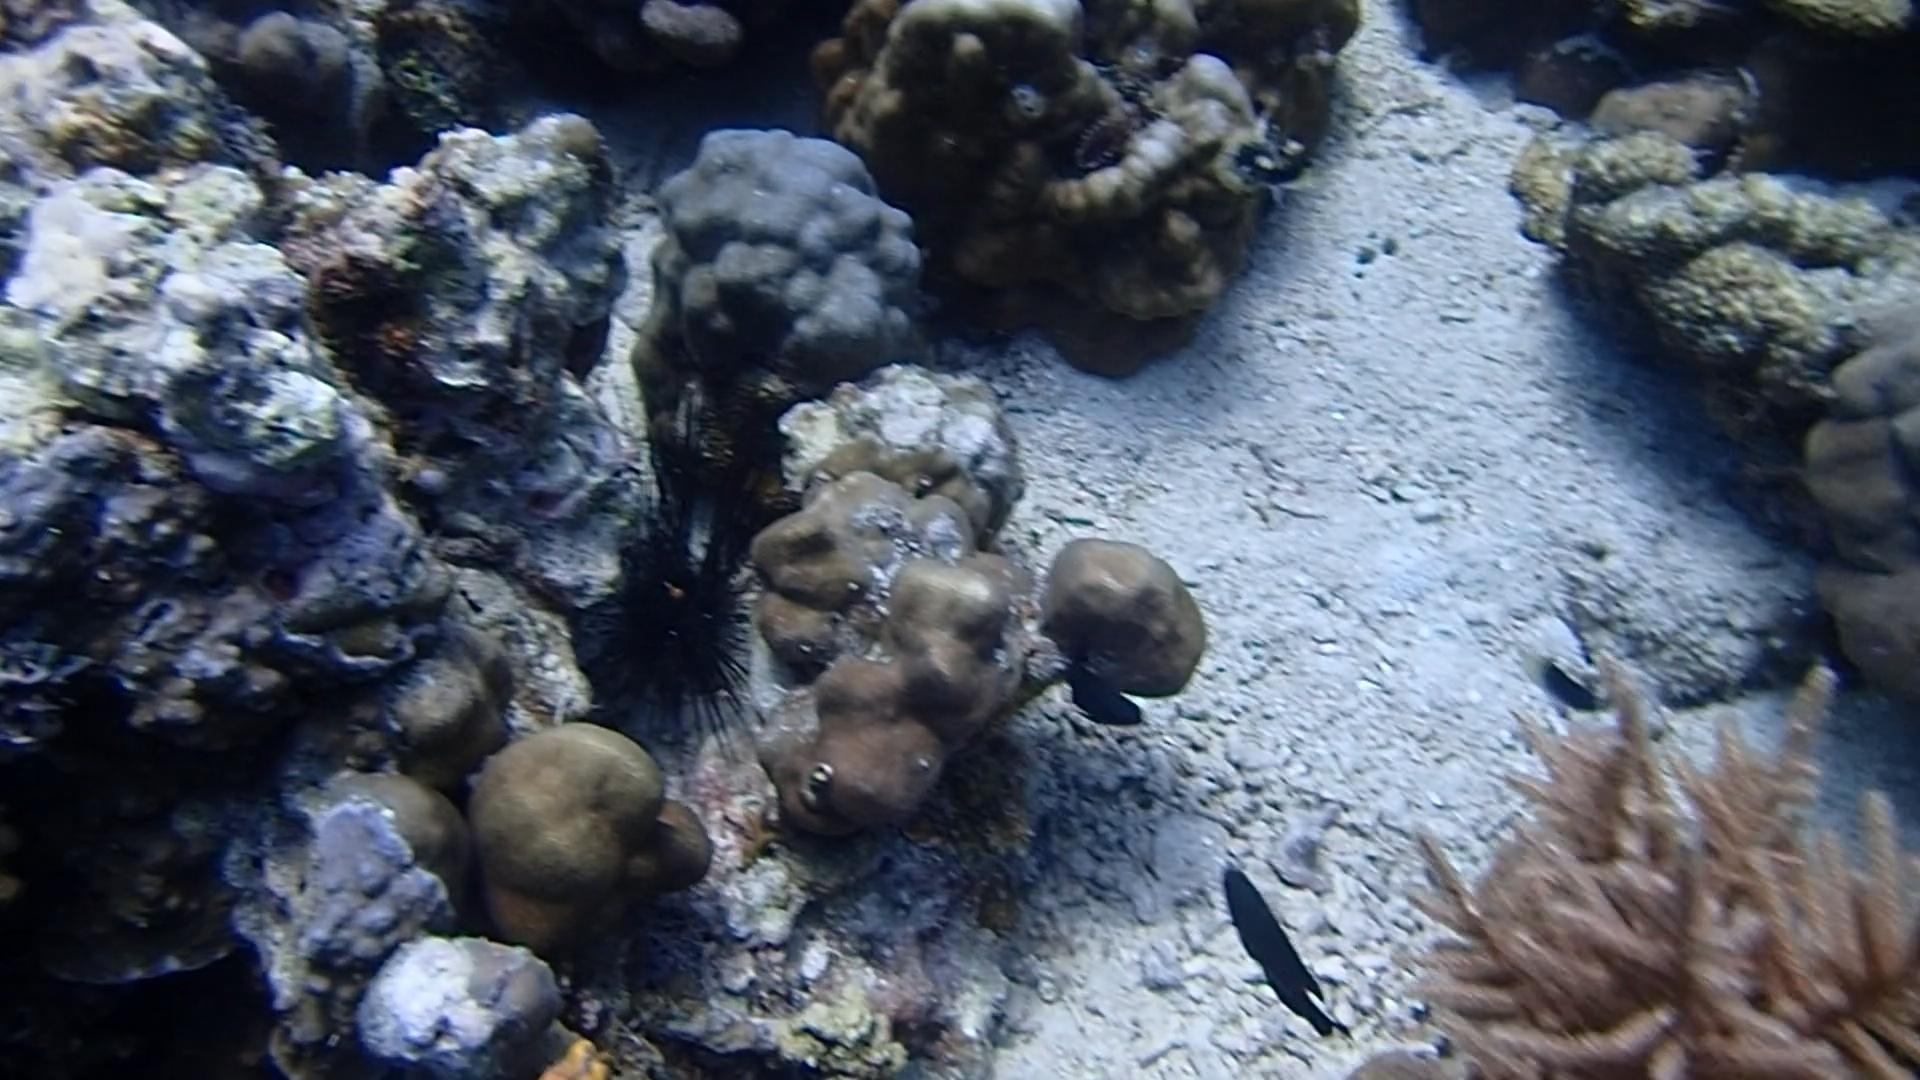Dark Fish: (1211, 865, 1365, 1040), (1055, 661, 1158, 736)
Yellow Tail: (1519, 650, 1604, 713), (1250, 150, 1335, 202)
